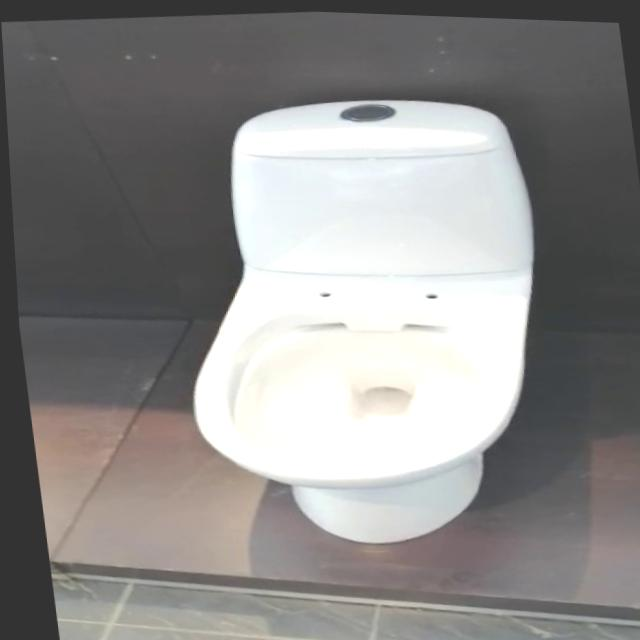toilet: (150, 79, 569, 558)
